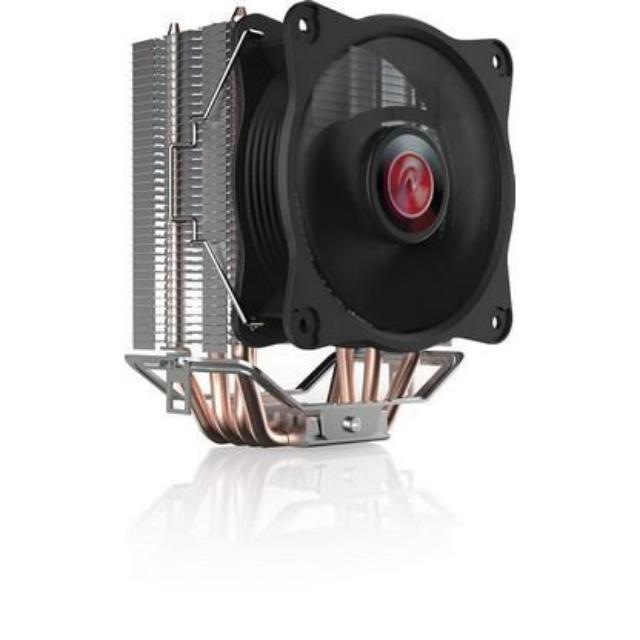CPU_Fan: (127, 9, 518, 442)
